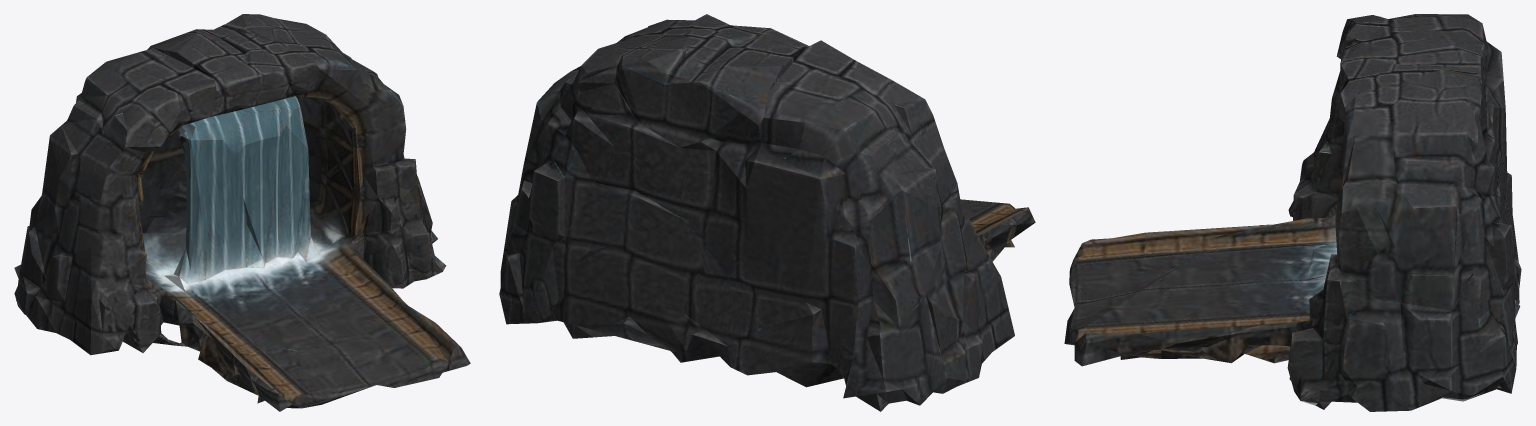
The model's file is stunt-waterfall-portal.lod.glb.
3 renders of one model, left to right at view 1: azimuth 30°, elevation 25°; view 2: azimuth 150°, elevation 25°; view 3: azimuth 270°, elevation 25°, orthographic. The views are drawn at different scales.
Visible parts, largest first — view 1: output_unwrapped; view 2: output_unwrapped; view 3: output_unwrapped.
Part boxes in pixels (left/top/right/bottom): output_unwrapped: left=14, top=14, right=470, bottom=411; output_unwrapped: left=499, top=14, right=1035, bottom=411; output_unwrapped: left=1064, top=14, right=1521, bottom=411.
Size of the model in its own units: 1.84 by 1.1 by 1.71.
1 material, 1 textured.
